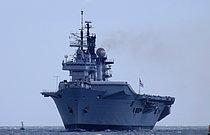MIL_Ship: (39, 9, 175, 131)
